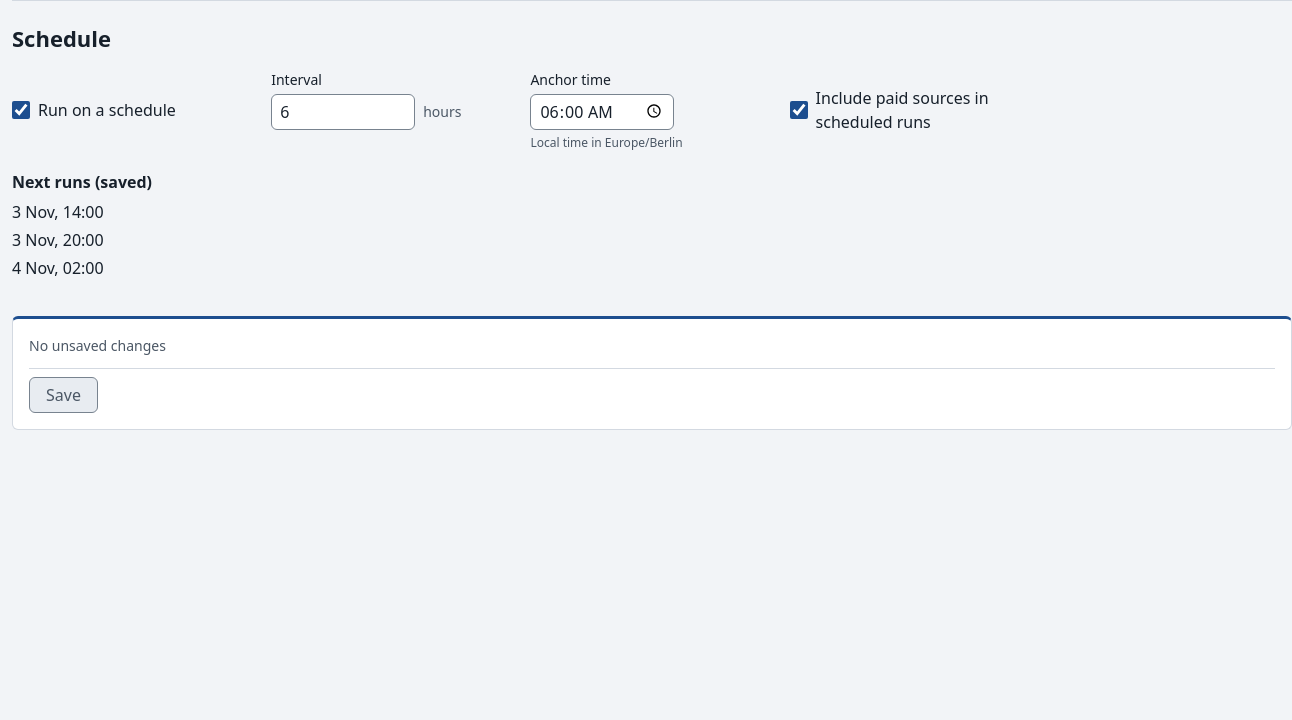
Test case: ScheduleSection › next slots of the saved and the draft schedule
Expected: the text "Next run (this draft)" is not shown
Replace the text in the number field labelled "Interval" with "8": (343, 112) [271,94,415,130]
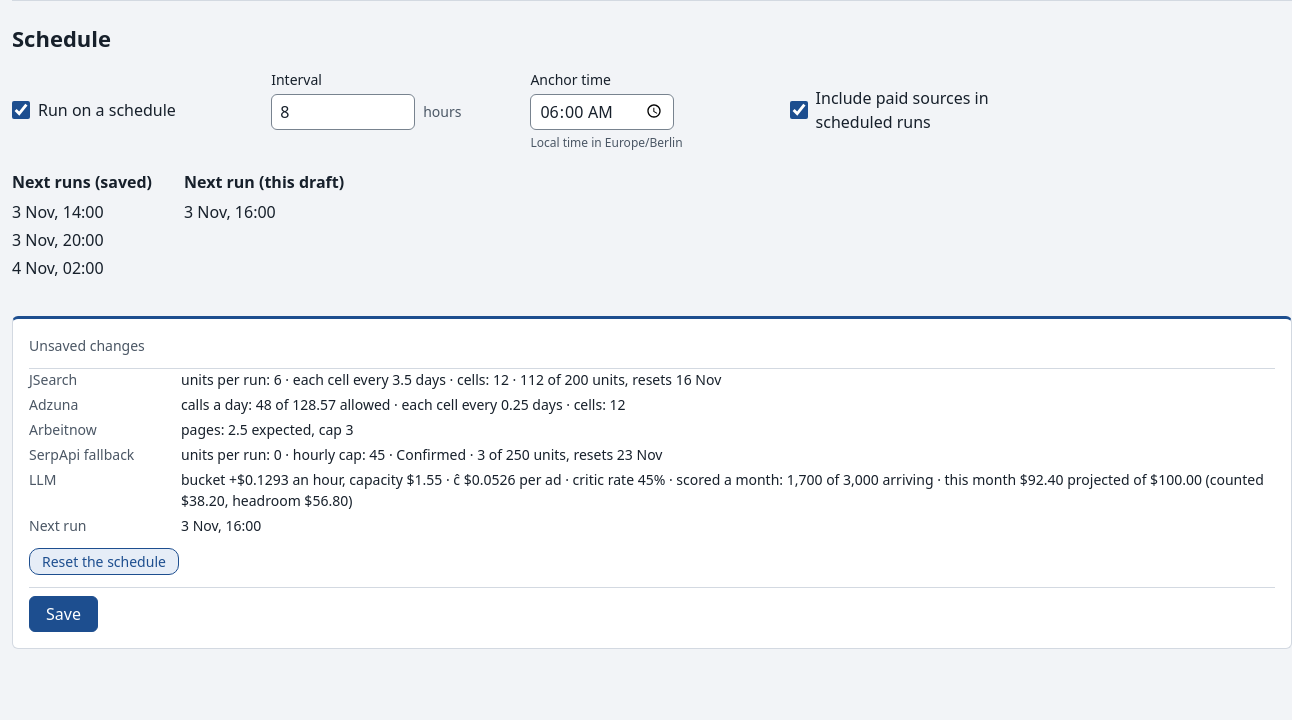
Expected: the text "3 Nov, 16:00" below "Next run (this draft)" is shown, [184,200,276,222]
